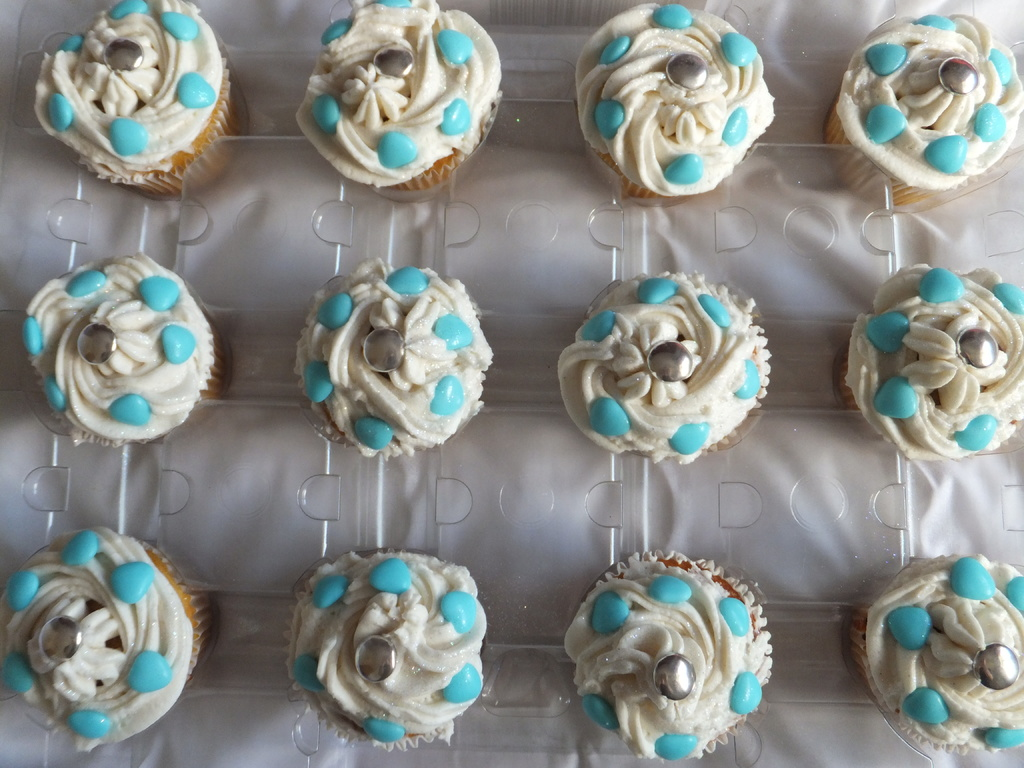cake: (1, 526, 211, 751), (566, 552, 772, 764), (556, 273, 776, 464), (284, 542, 488, 746), (576, 0, 776, 202), (300, 0, 505, 193), (296, 259, 493, 458), (22, 257, 223, 448), (829, 8, 1023, 204), (36, 0, 234, 192), (842, 262, 1023, 459), (842, 553, 1023, 750)
